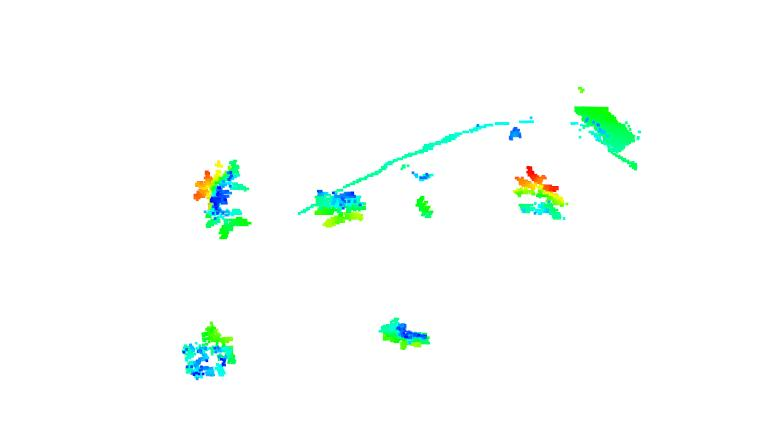chickpea: (187, 159, 255, 237), (178, 315, 251, 384), (512, 161, 572, 221), (299, 184, 374, 230), (377, 310, 442, 359), (408, 169, 446, 218)
